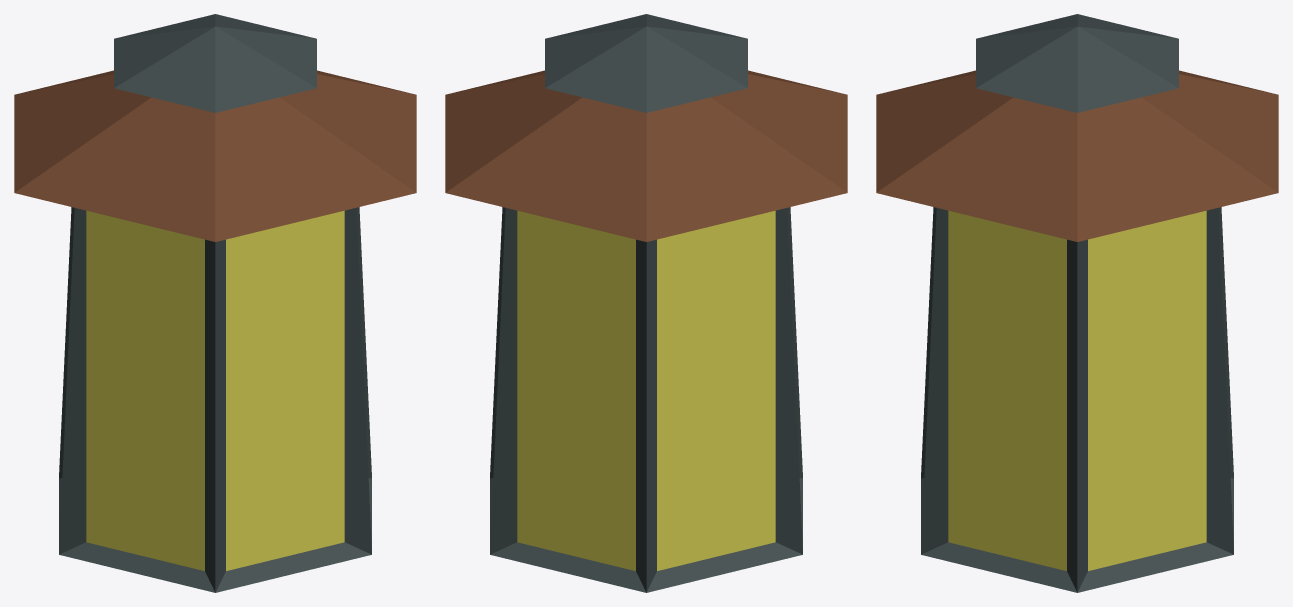
File: Lamp_2_Yellow.fbx
3 renders of one model, left to right at view 1: azimuth 30°, elevation 25°; view 2: azimuth 150°, elevation 25°; view 3: azimuth 270°, elevation 25°, orthographic.
Parts seen in each view (by area): view 1: Lamp_2_Yellow; view 2: Lamp_2_Yellow; view 3: Lamp_2_Yellow.
Boxes of the visible parts, x1,y1,x2,y2 form: Lamp_2_Yellow: [14, 14, 416, 592]; Lamp_2_Yellow: [445, 14, 847, 592]; Lamp_2_Yellow: [876, 14, 1278, 592].
Bounding box in the file's own units: 57.59 × 66.99 × 49.88.
